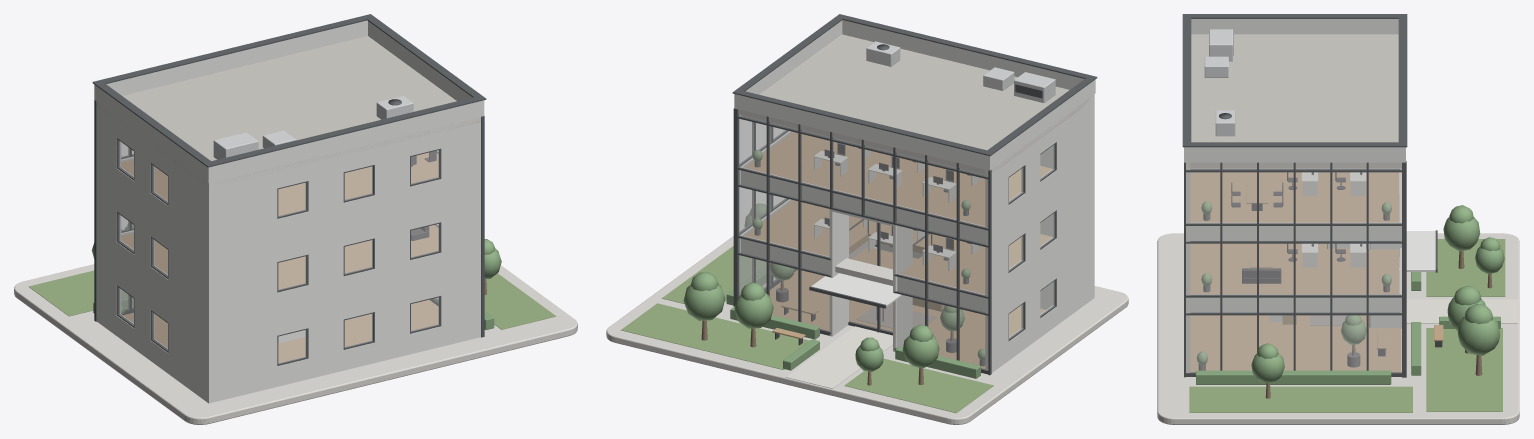
Rendered from car.glb.
3 views of the same model, side by side, from view 1: azimuth 30°, elevation 25°; view 2: azimuth 150°, elevation 25°; view 3: azimuth 270°, elevation 25° (orthographic). The views are drawn at different scales.
Parts seen in each view (by area): view 1: Wall_Back, Wall_Left, Slabs, Plinth, Shell_White, Facade_Frames, Wood_Elements, Lawns, Roof_HVAC, Glass_B1_0, Glass_B1_2, Glass_B0_2 (+7 smaller); view 2: Shell_White, Wood_Elements, Slabs, Wall_Left, Facade_Frames, Plinth, Lawns, Paths, Hedges, Desks_White, Roof_HVAC, Tree_4 (+30 smaller); view 3: Wood_Elements, Slabs, Shell_White, Plinth, Lawns, Facade_Frames, Hedges, Furniture_Dk, Glass_R0_4, Glass_R0_3, Glass_R0_1, Glass_R0_5 (+25 smaller).
Part boxes in pixels (x1,y1,x2,y2): Wall_Back: (206,117,480,403); Wall_Left: (97,102,213,402); Slabs: (97,36,480,186); Plinth: (14,264,577,424); Shell_White: (94,20,484,235); Facade_Frames: (92,14,486,365); Wood_Elements: (121,152,438,362); Lawns: (28,270,556,329); Roof_HVAC: (213,96,413,159); Glass_B1_0: (278,256,306,290); Glass_B1_2: (411,224,439,257); Glass_B0_2: (411,297,439,331); Shell_White: (734,20,1095,351); Wood_Elements: (745,132,1051,368); Slabs: (738,34,1091,285); Wall_Left: (985,94,1094,372); Facade_Frames: (732,14,1097,375); Plinth: (606,236,1128,424); Lawns: (621,246,993,413); Paths: (785,326,892,388); Hedges: (726,266,980,378); Desks_White: (813,143,979,270); Roof_HVAC: (866,41,1055,102); Tree_4: (683,272,725,340); Wood_Elements: (1190,172,1443,372); Slabs: (1186,34,1401,293); Shell_White: (1184,19,1435,328); Plinth: (1157,233,1519,424); Lawns: (1189,239,1505,412); Facade_Frames: (1182,14,1437,377); Hedges: (1196,272,1500,384); Furniture_Dk: (1198,172,1442,370); Glass_R0_4: (1332,315,1366,370); Glass_R0_3: (1296,315,1329,370); Glass_R0_1: (1222,315,1256,370); Glass_R0_5: (1369,315,1401,372).
Bounding box in the file's own units: 20 × 12.01 × 16.5.
